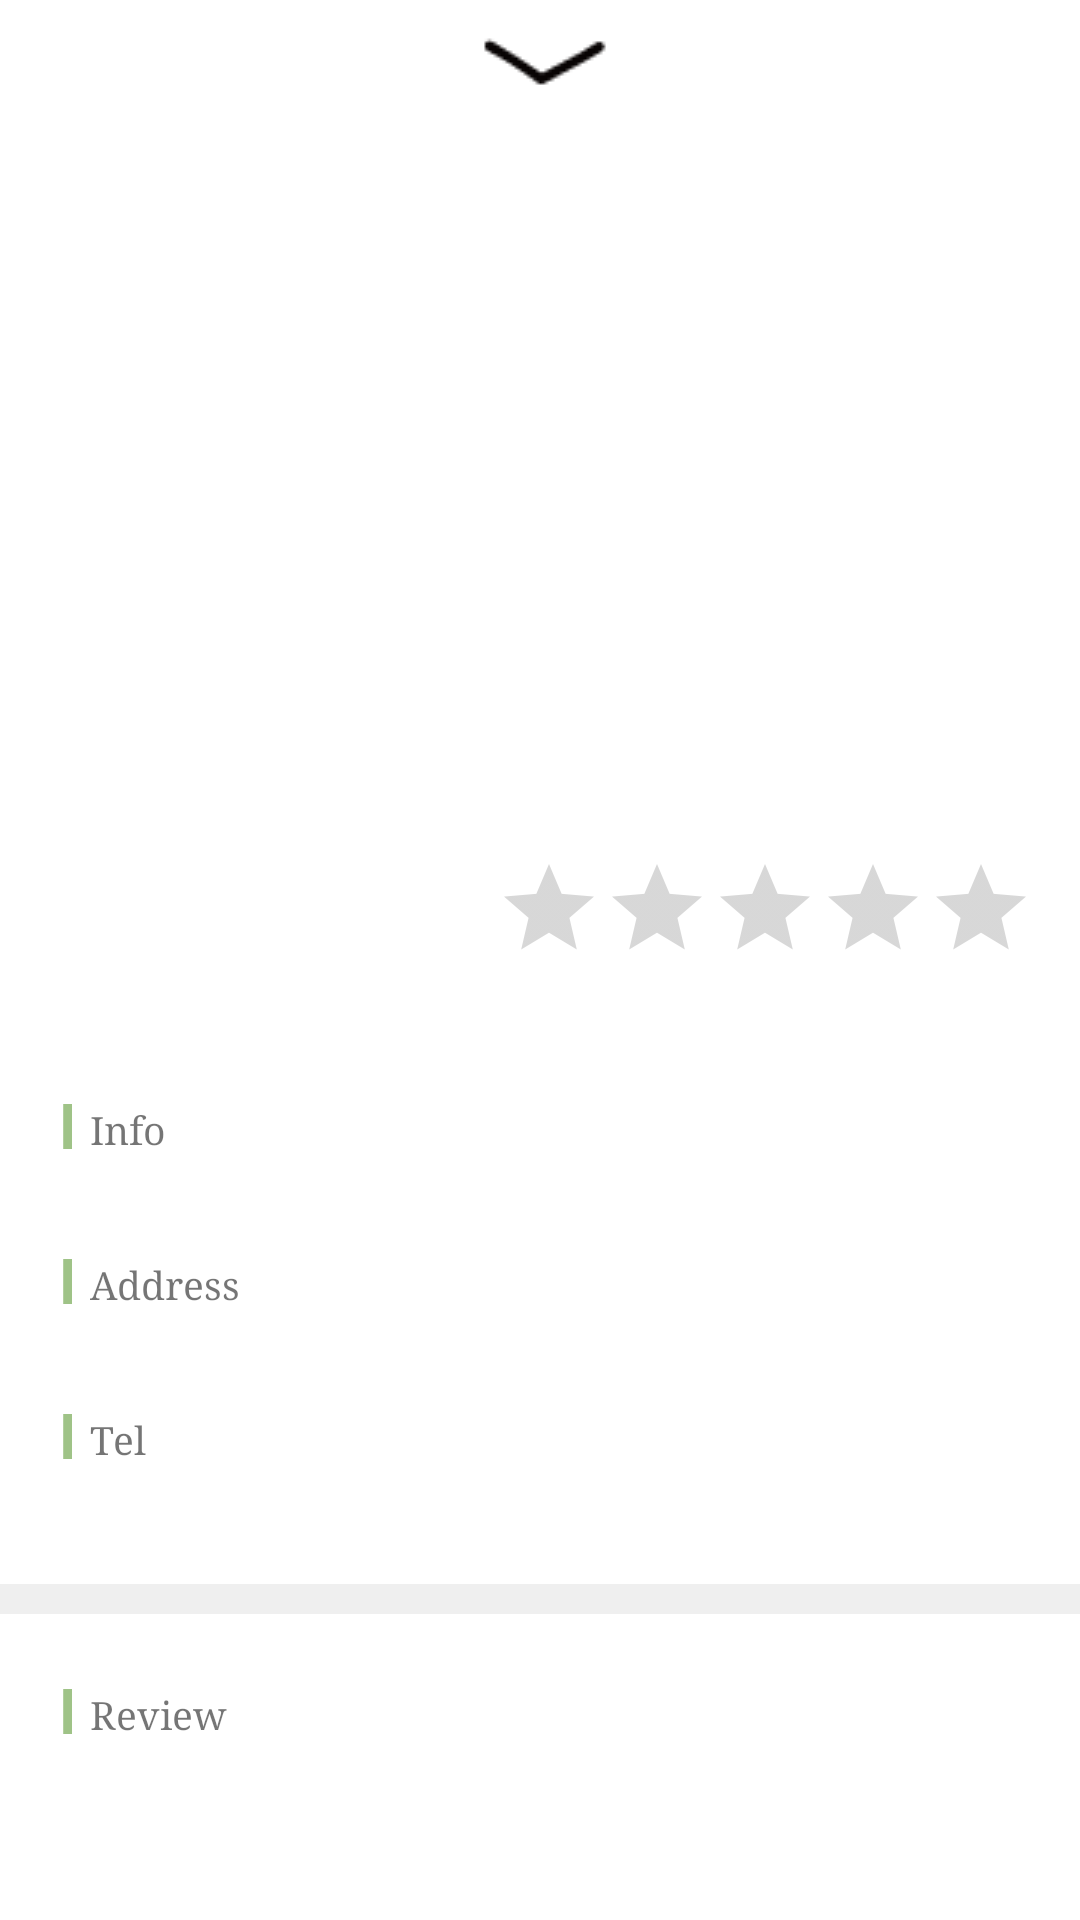

Screen size 1080px x 1920px. Icon name, then its center in pixels as (x=x, y=y):
location close: (x=545, y=61)
